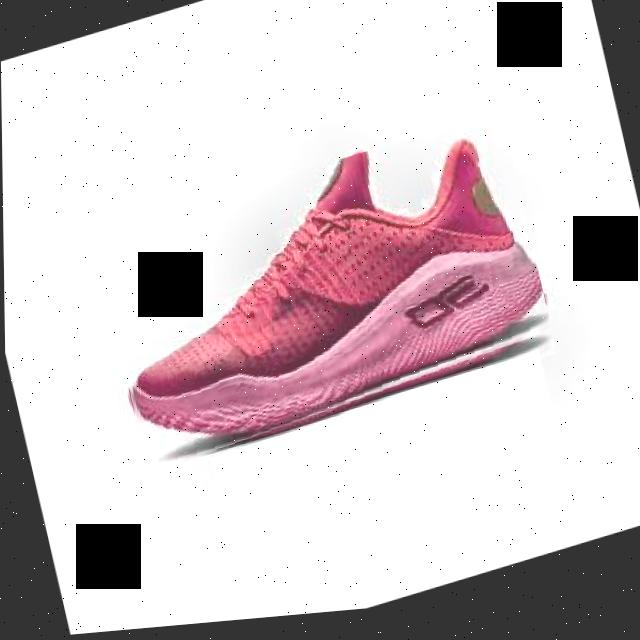shoe: (87, 116, 556, 481)
